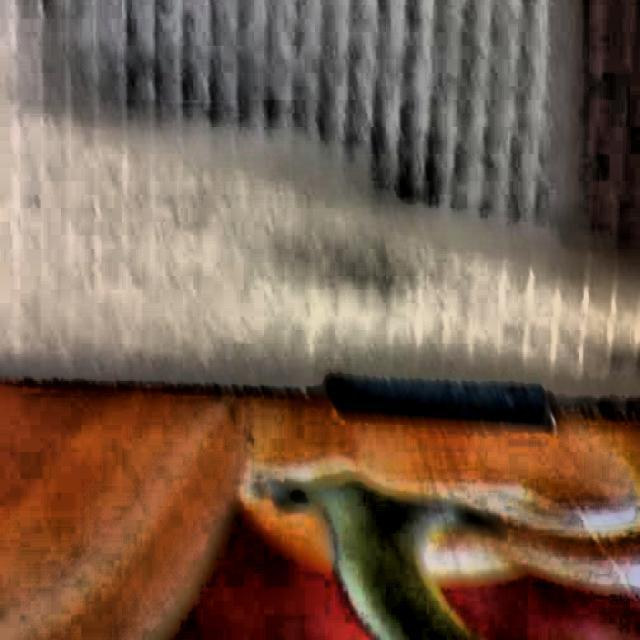cardboard: (0, 0, 640, 422), (0, 380, 640, 640)
